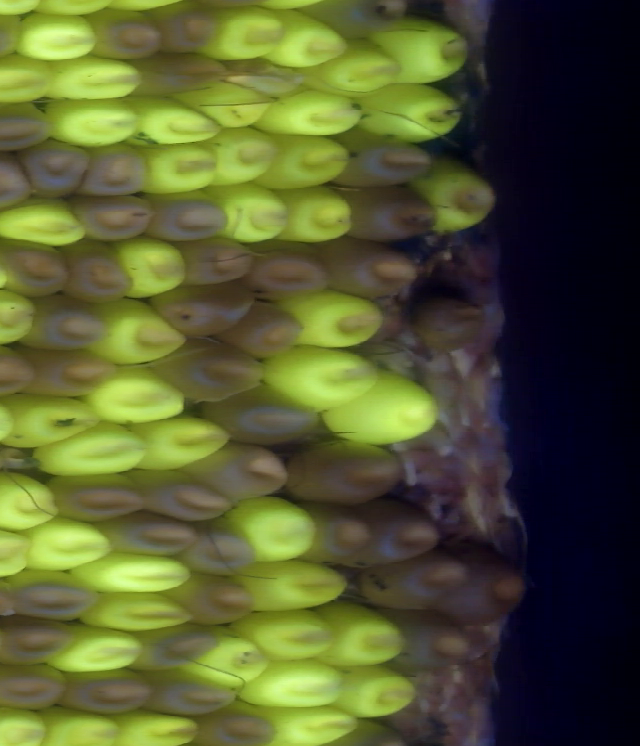fluorescent: (317, 361, 445, 452), (258, 341, 386, 417), (277, 283, 390, 354), (369, 9, 475, 83), (86, 358, 196, 428), (88, 296, 192, 370), (349, 79, 464, 144), (32, 417, 155, 477), (237, 553, 354, 615), (118, 89, 229, 154), (409, 153, 500, 232), (223, 492, 325, 562), (125, 413, 238, 475), (65, 547, 200, 598), (264, 2, 355, 77), (315, 597, 409, 669), (0, 388, 107, 451), (248, 83, 368, 139), (235, 656, 355, 712), (81, 583, 203, 636), (188, 622, 280, 692), (189, 2, 288, 66), (17, 514, 117, 577), (174, 72, 280, 130), (37, 95, 146, 151), (106, 229, 190, 301), (258, 129, 360, 188), (267, 185, 361, 248), (233, 607, 344, 660), (51, 617, 147, 678), (8, 6, 103, 66), (202, 119, 284, 188), (43, 50, 149, 103), (333, 660, 425, 721), (210, 182, 298, 245), (0, 189, 91, 249), (256, 697, 365, 746), (319, 33, 406, 94), (141, 135, 222, 199), (105, 699, 206, 746), (0, 464, 64, 533), (40, 699, 125, 746), (0, 49, 58, 106), (0, 697, 55, 746), (0, 284, 41, 348), (0, 519, 38, 581)
nonfluorescent: (275, 434, 405, 511), (153, 336, 275, 407), (437, 538, 533, 628), (202, 382, 328, 450), (357, 549, 475, 615), (326, 126, 440, 193), (335, 179, 444, 248), (337, 494, 445, 563), (185, 438, 298, 503), (317, 234, 423, 302), (125, 465, 237, 527), (41, 469, 155, 527), (376, 603, 476, 668), (85, 506, 201, 562), (17, 289, 111, 358), (148, 280, 256, 340), (235, 237, 333, 302), (137, 662, 242, 722), (56, 235, 139, 308), (3, 566, 105, 625), (220, 299, 307, 366), (24, 343, 122, 402), (53, 665, 163, 717), (126, 621, 227, 676), (168, 569, 263, 627), (298, 498, 380, 565), (144, 188, 235, 247), (0, 233, 76, 302), (68, 189, 159, 246), (170, 232, 265, 286), (127, 49, 229, 99), (78, 8, 165, 66), (18, 136, 95, 201), (177, 516, 258, 577), (75, 139, 154, 201), (0, 609, 81, 669), (145, 1, 221, 61), (415, 294, 490, 354), (185, 704, 282, 746), (0, 660, 76, 713), (0, 95, 58, 158), (0, 141, 35, 216), (0, 340, 39, 401), (0, 7, 32, 66)
